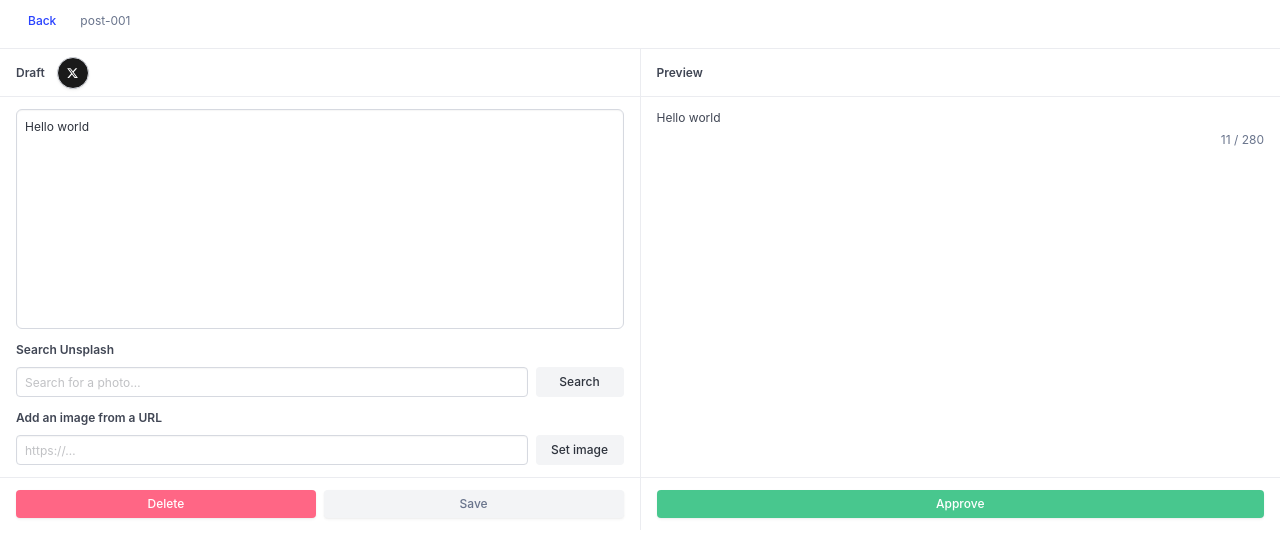
EditPostView — Approve disabled: dirty › disables Approve with dirty tooltip when text has unsaved changes
Replace the text in the text box named "post content" with "changed text" at {"x": 320, "y": 219}, box [16,109,624,329]
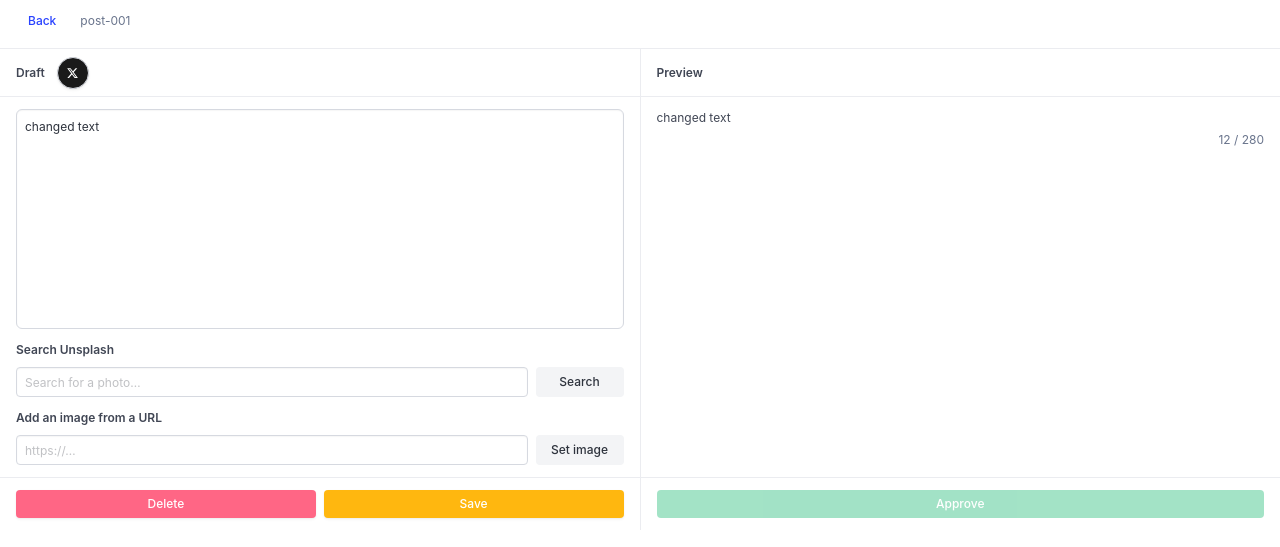
Expected: the button "Approve" is disabled, [656,490,1264,518]
